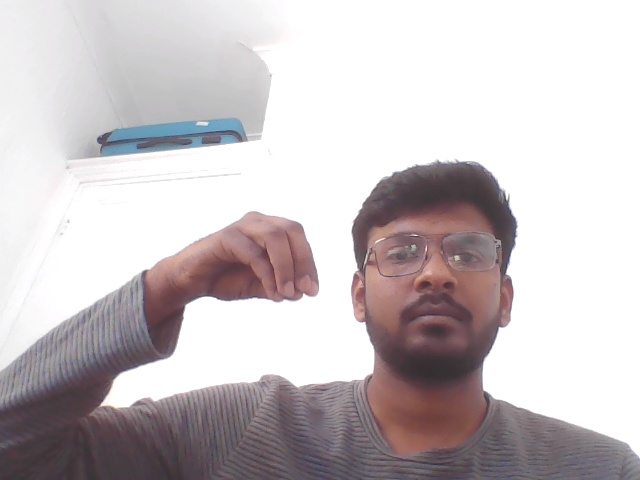Yes: (125, 189, 331, 370)
